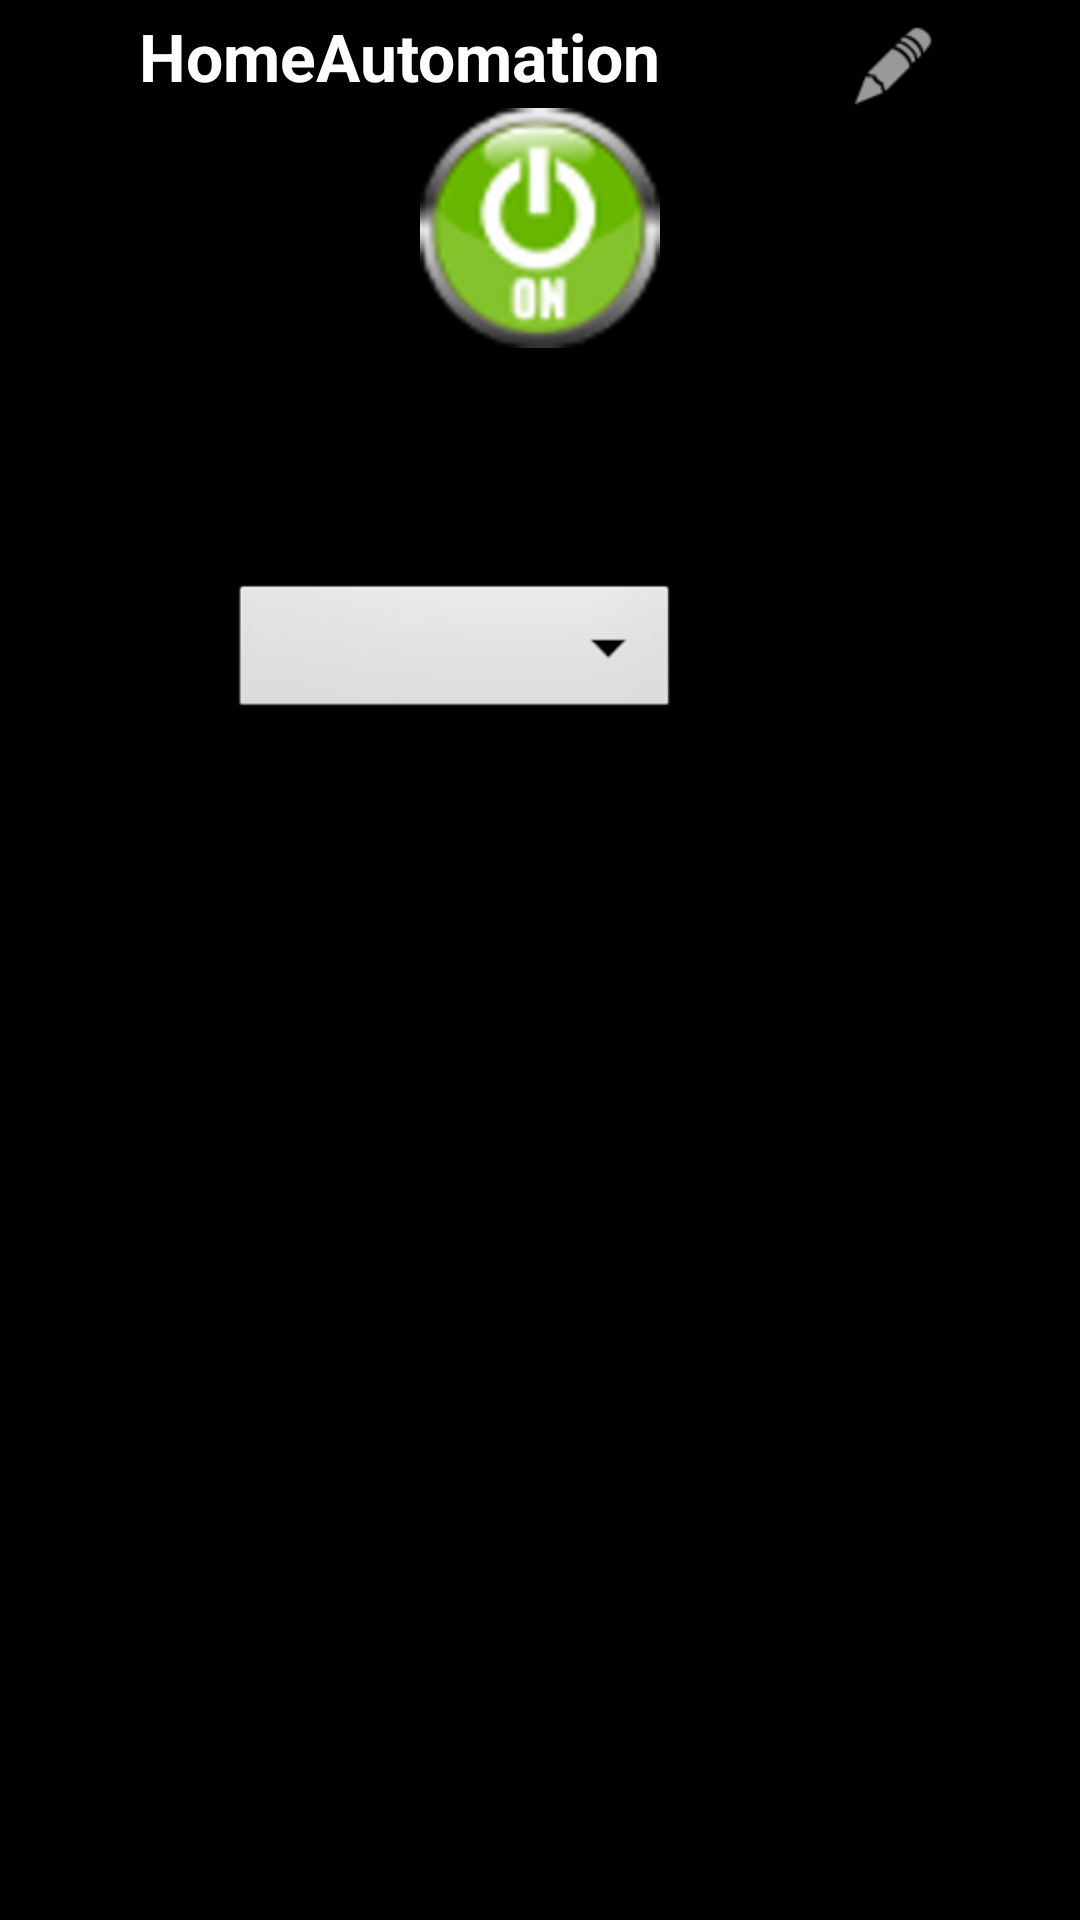

Screen size 1080 × 1920. Icon name, then its box in pixels as (x1, y1, x2, y2):
edit: (855, 27, 932, 104)
Switch Power: (420, 108, 660, 348)
